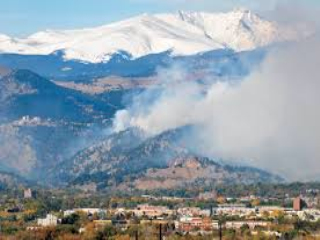smoke: (103, 78, 240, 152)
